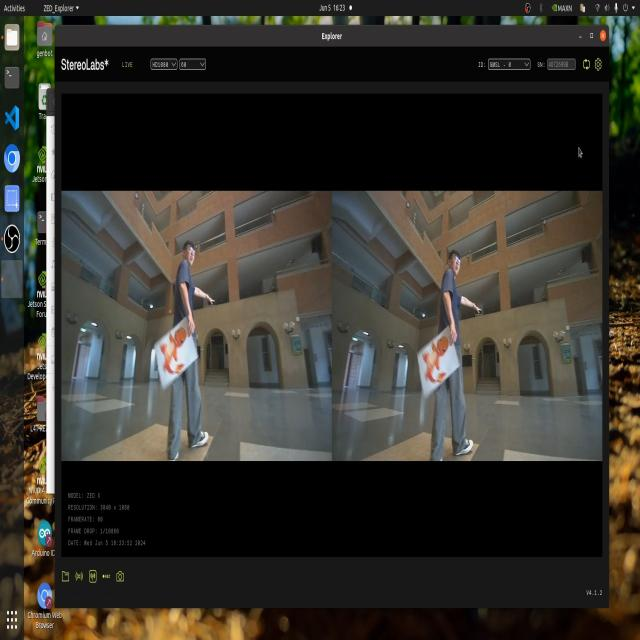red: (151, 324, 190, 372), (414, 341, 452, 386)
